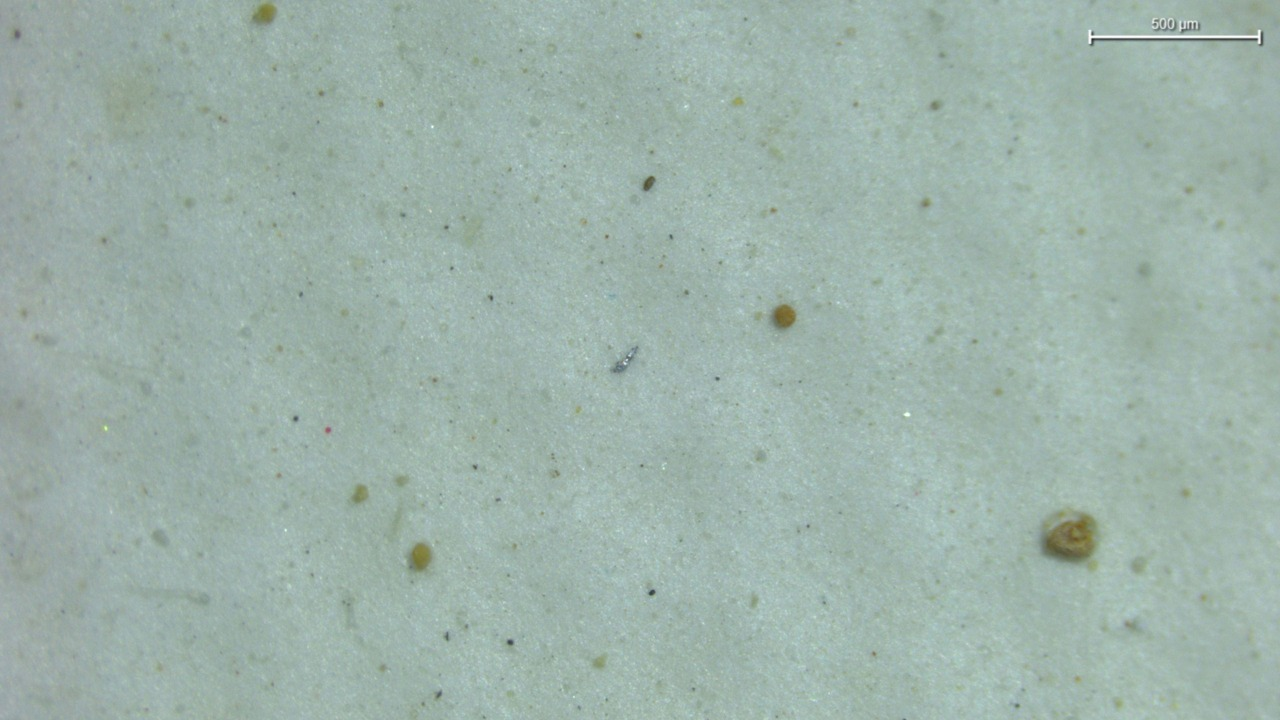microplastic_fragment: (612, 346, 638, 373)
